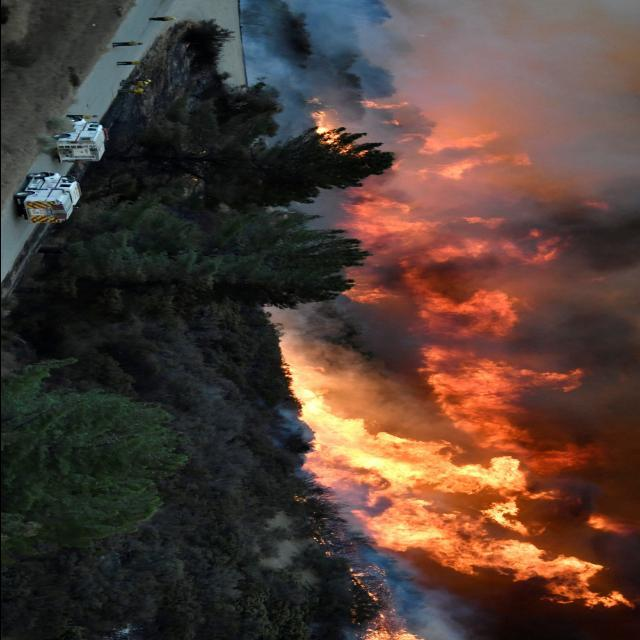Fire: (269, 104, 626, 610)
